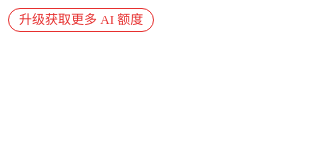
Test: HuaqiuTurnErrorSubscribeAction › shows retry copy when the dialog call rejects
What coordinates should you click on to do the following:
click the button "升级获取更多 AI 额度"
I would click on:
 (81, 20)
Its box is [8,8,154,32].
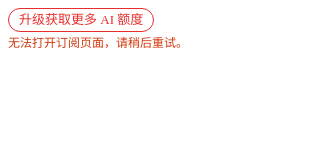
Expected: the text "无法打开订阅页面" is shown, [8,36,188,50]
